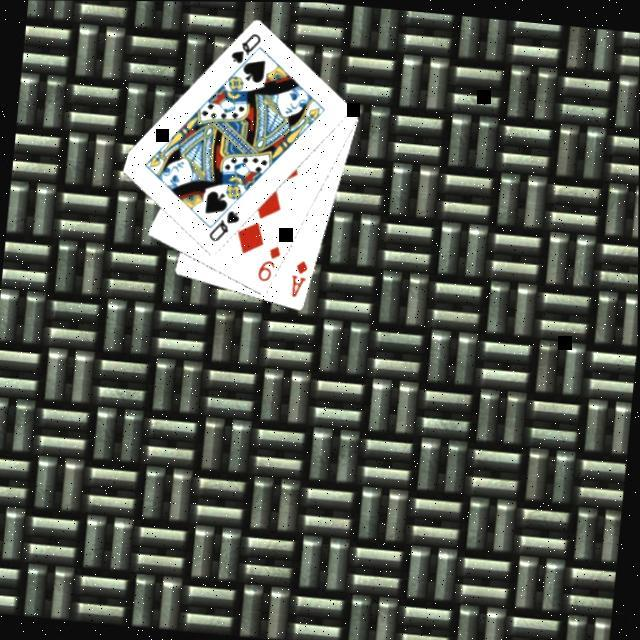9D: (252, 239, 282, 283)
AD: (285, 253, 310, 299)
QS: (203, 202, 240, 243), (225, 26, 262, 66)
